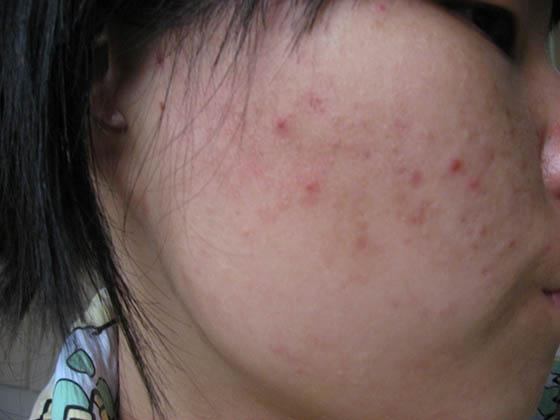fore: (346, 223, 378, 260), (293, 173, 321, 199), (400, 202, 426, 230), (477, 140, 505, 166), (501, 231, 525, 261), (266, 108, 289, 136), (302, 89, 326, 114), (400, 169, 429, 189), (442, 153, 462, 174), (469, 218, 488, 236), (466, 173, 482, 193)
